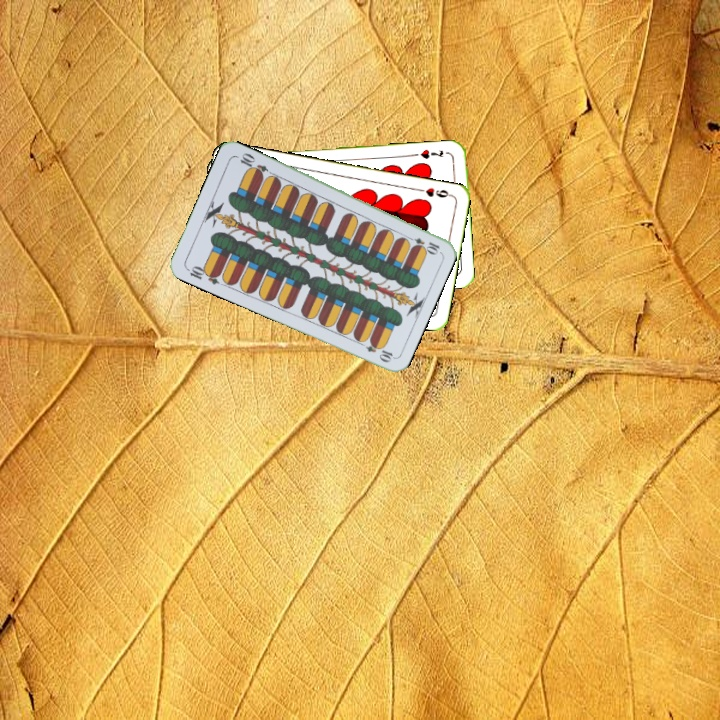E10: (183, 262, 223, 287), (402, 232, 442, 256)
H7: (410, 145, 446, 161)
H9: (414, 183, 454, 200)
